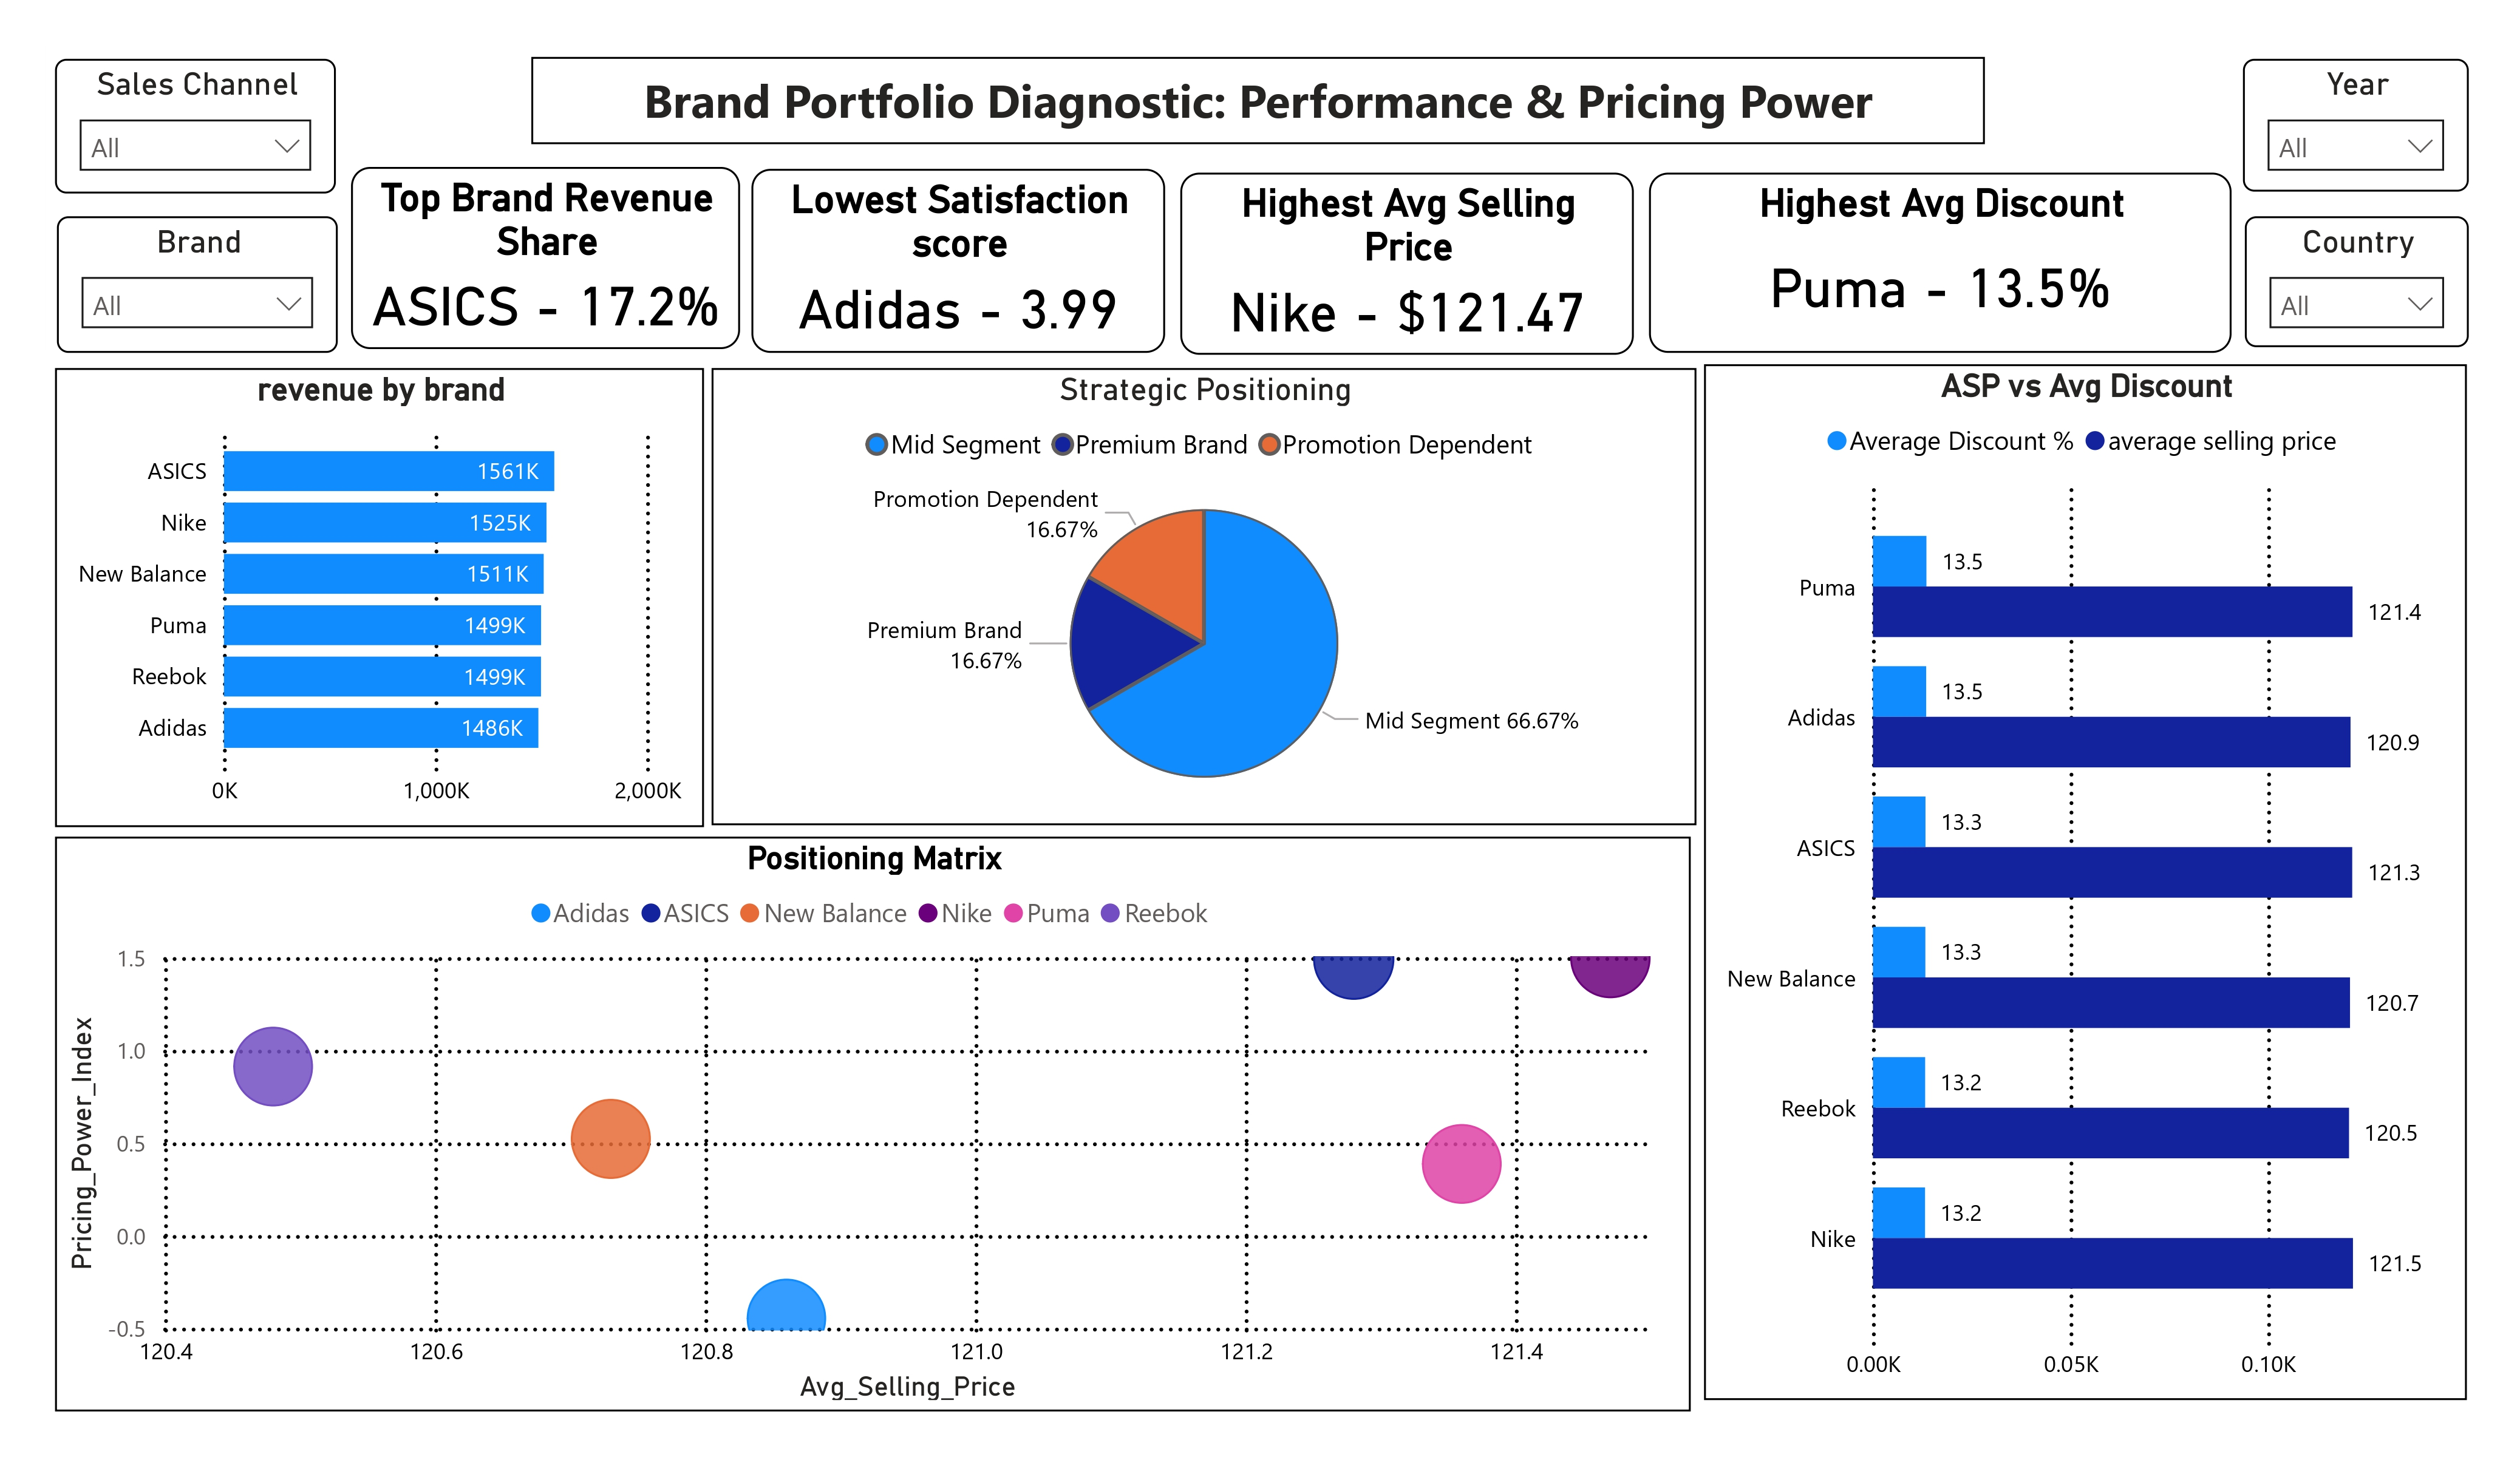

The dashboard page shown, as its layout file describes it:
{"tool":"powerbi","page":{"name":"Brand Portfolio","canvas":[1280,720],"ordinal":1},"visuals":[{"type":"textbox","box":[256,6,766,46],"z":0},{"type":"barChart","title":"revenue by brand","fields":{"Category":["brand_summary.brand"],"Y":["Table.total_revenue"]},"box":[5,170,341.7,241.7],"z":1000},{"type":"clusteredBarChart","title":"ASP vs Avg Discount","fields":{"Category":["brand_summary.brand"],"Y":["Table2.Average Discount %","Table2.average selling price"]},"box":[874,168,402,546],"z":2000},{"type":"scatterChart","title":"Positioning Matrix","fields":{"X":["brand_summary.Avg_Selling_Price"],"Y":["brand_summary.Pricing_Power_Index"],"Size":["Sum(cleaned_data.Revenue)"],"Series":["cleaned_data.brand"]},"box":[5,416.7,861.7,303.3],"z":3000},{"type":"card","title":"Top Brand Revenue Share","fields":{"Values":["Table.Highest Avg Discount %"]},"box":[161.4,64.3,204.3,95.7],"z":4000},{"type":"card","title":"Highest Avg Selling Price","fields":{"Values":["Table.Highest Avg Selling Price"]},"box":[598.3,66.7,238.3,96.7],"z":5000},{"type":"card","title":"Lowest Satisfaction score","fields":{"Values":["Table.Lowest Satisfaction ScoreLowest Satisfaction Score"]},"box":[371.7,65,218.3,96.7],"z":6000},{"type":"slicer","title":"Year","fields":{"Values":["cleaned_data.year"]},"box":[1158.3,6.7,118.3,70],"z":7000},{"type":"slicer","title":"Country","fields":{"Values":["cleaned_data.country"]},"box":[1158.6,90,118.6,68.6],"z":8000},{"type":"slicer","title":"Sales Channel","fields":{"Values":["cleaned_data.sales_channel"]},"box":[5,6.7,148.3,71.7],"z":9000},{"type":"card","title":"Highest Avg Discount ","fields":{"Values":["Table.Highest Avg Discount KPI"]},"box":[845,66.7,306.7,95],"z":10000},{"type":"slicer","title":"Brand","fields":{"Values":["brand_summary.Strategic_Position"]},"box":[6,90,148,72],"z":11000},{"type":"pieChart","title":"Strategic Positioning","fields":{"Category":["brand_summary.Strategic_Position"],"Y":["CountNonNull(brand_summary.brand)"]},"box":[350.6,170.4,519.3,240.8],"z":12000},{"type":"slicer","title":"Year","fields":{"Values":["brand_summary.Strategic_Position"]},"box":[1021.4,0,118.6,70],"z":13000}]}

Visuals, with their boxes on the page's 1280x720 design canvas (x1, y1, x2, y2). These are canvas units, not pixel positions in the 2520x1457 screenshot, which may show the page scaled, cropped or inside an application window:
textbox: 256,6,1022,52
"revenue by brand" barChart: 5,170,347,412
"ASP vs Avg Discount" clusteredBarChart: 874,168,1276,714
"Positioning Matrix" scatterChart: 5,417,867,720
"Top Brand Revenue Share" card: 161,64,366,160
"Highest Avg Selling Price" card: 598,67,837,163
"Lowest Satisfaction score" card: 372,65,590,162
"Year" slicer: 1158,7,1277,77
"Country" slicer: 1159,90,1277,159
"Sales Channel" slicer: 5,7,153,78
"Highest Avg Discount " card: 845,67,1152,162
"Brand" slicer: 6,90,154,162
"Strategic Positioning" pieChart: 351,170,870,411
"Year" slicer: 1021,0,1140,70
